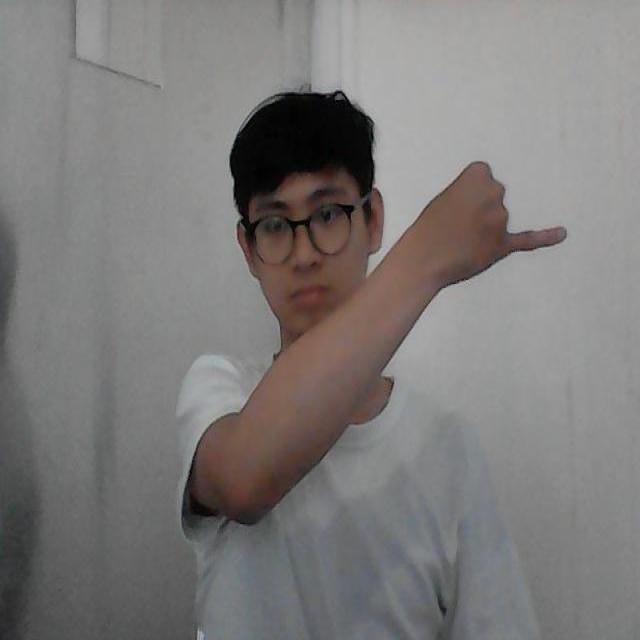J: (424, 156, 570, 279)
